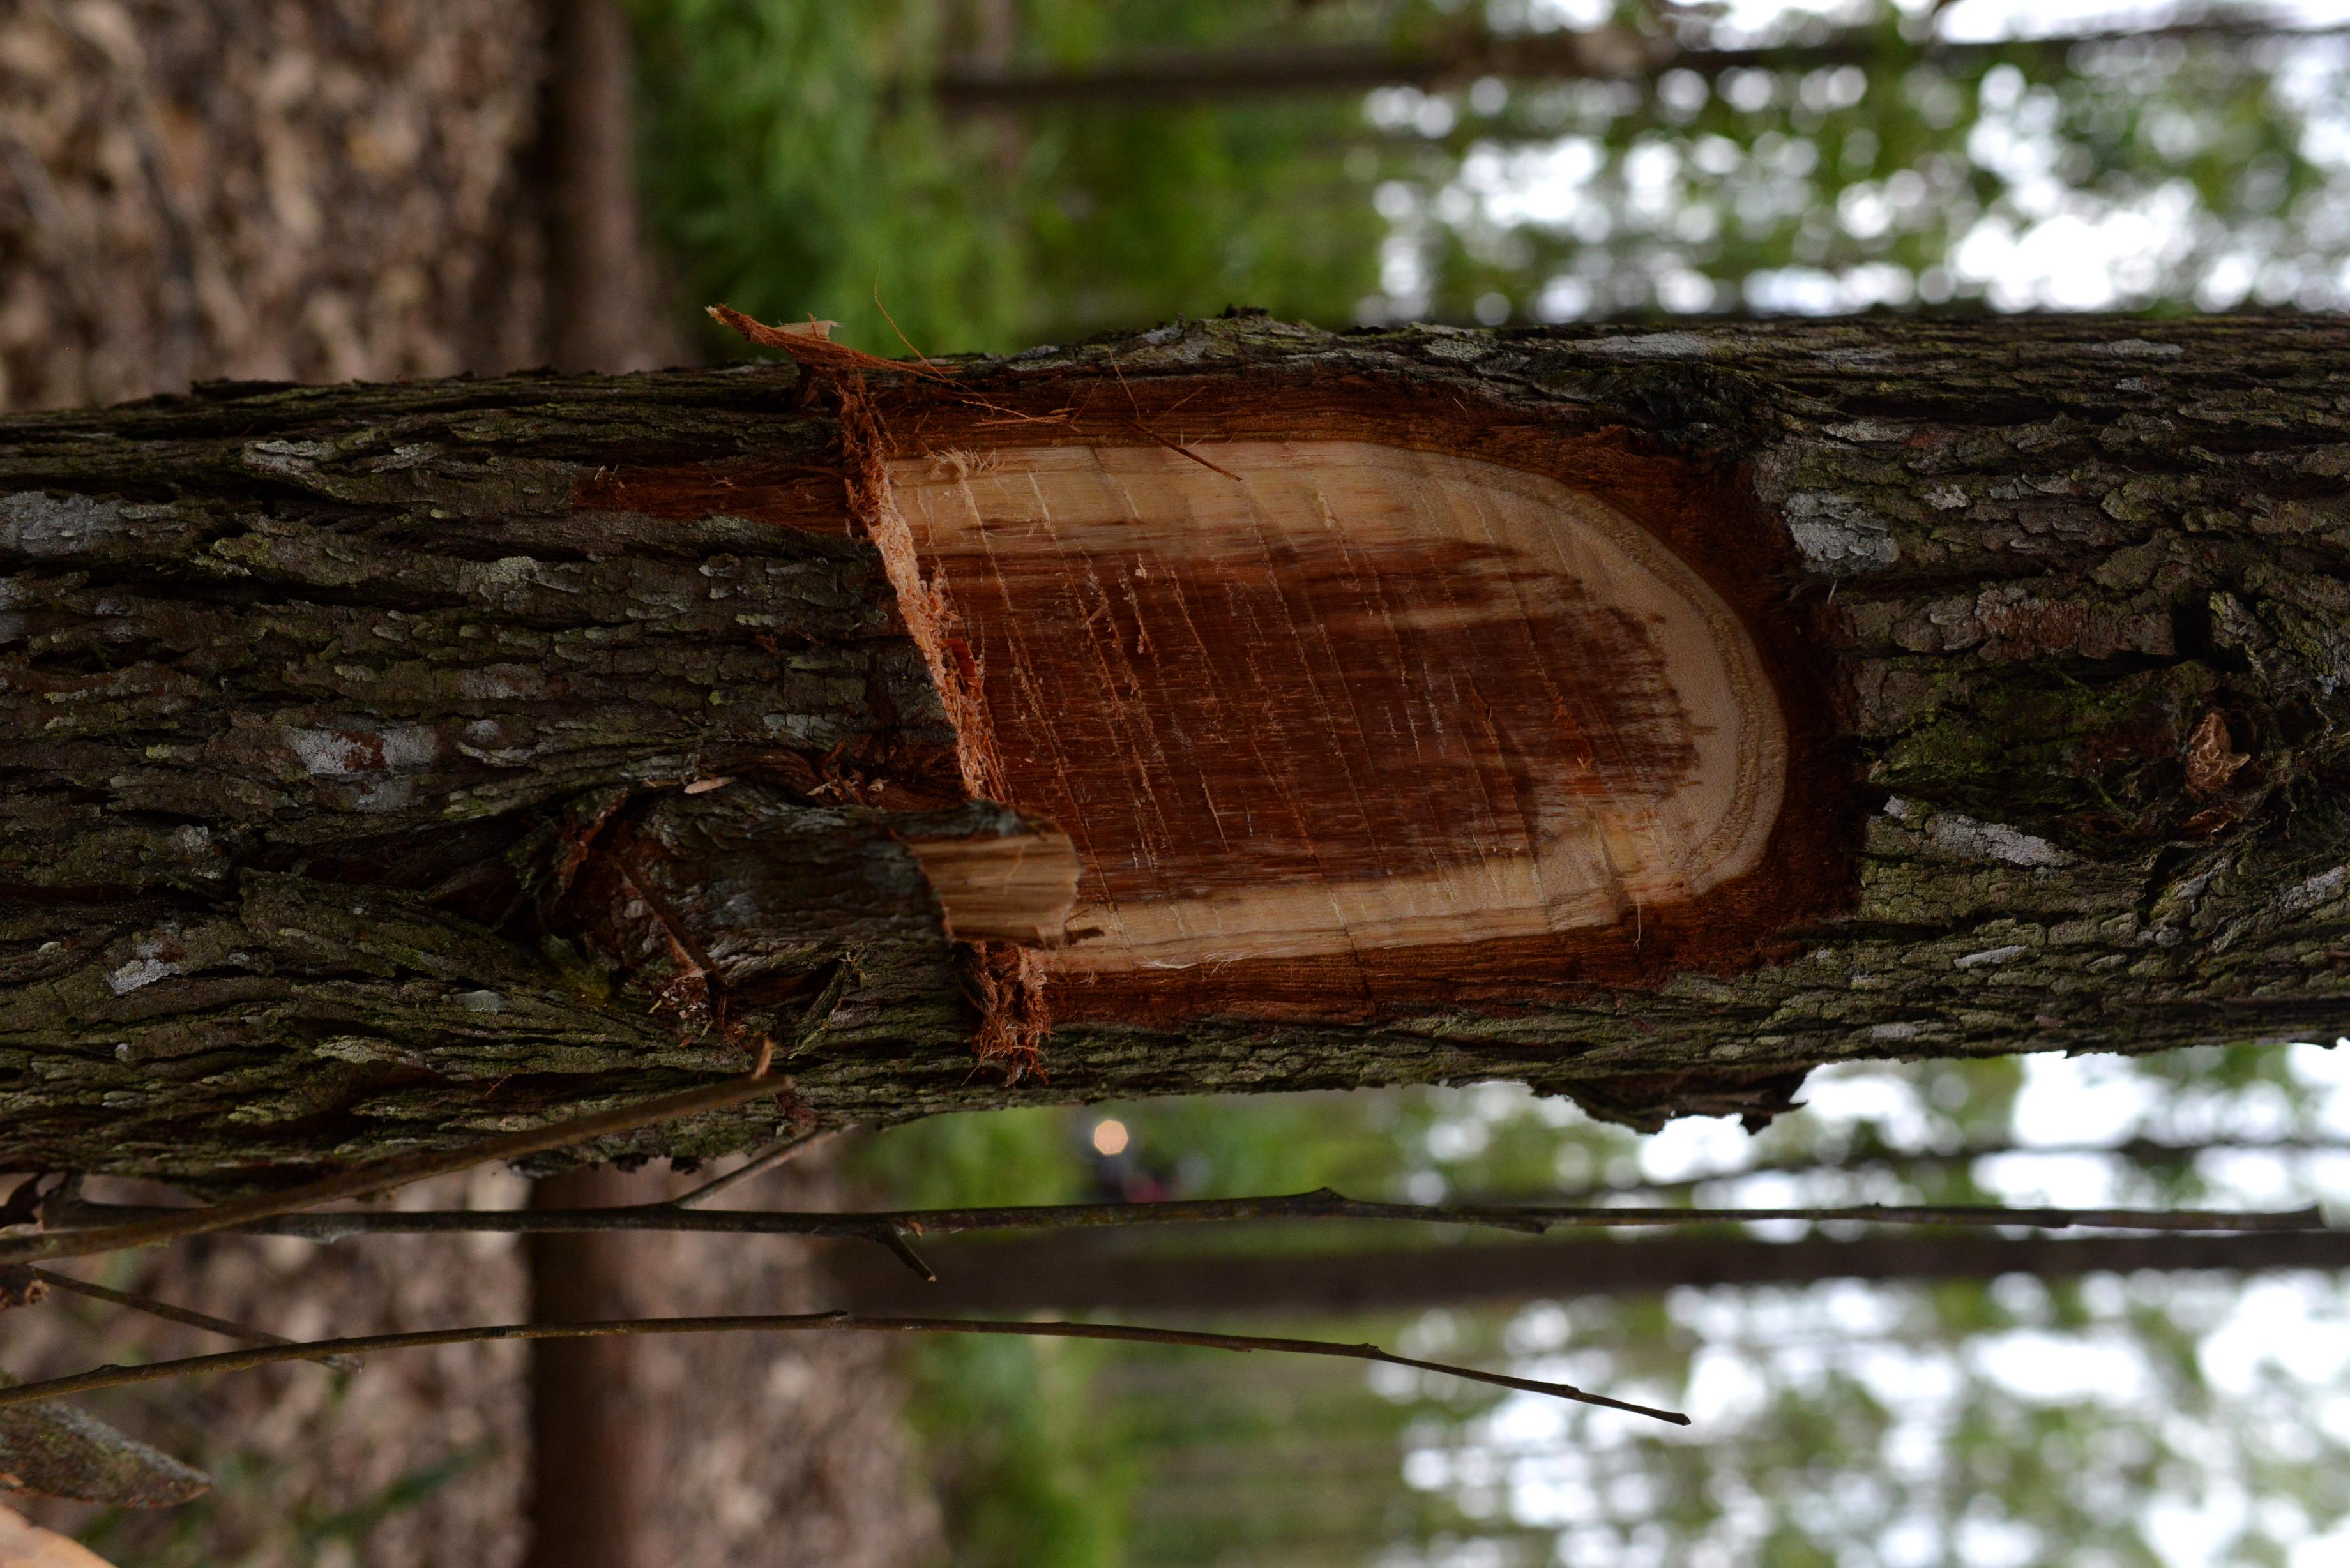Ceratocystis - Inner: (870, 394, 1850, 1045)
